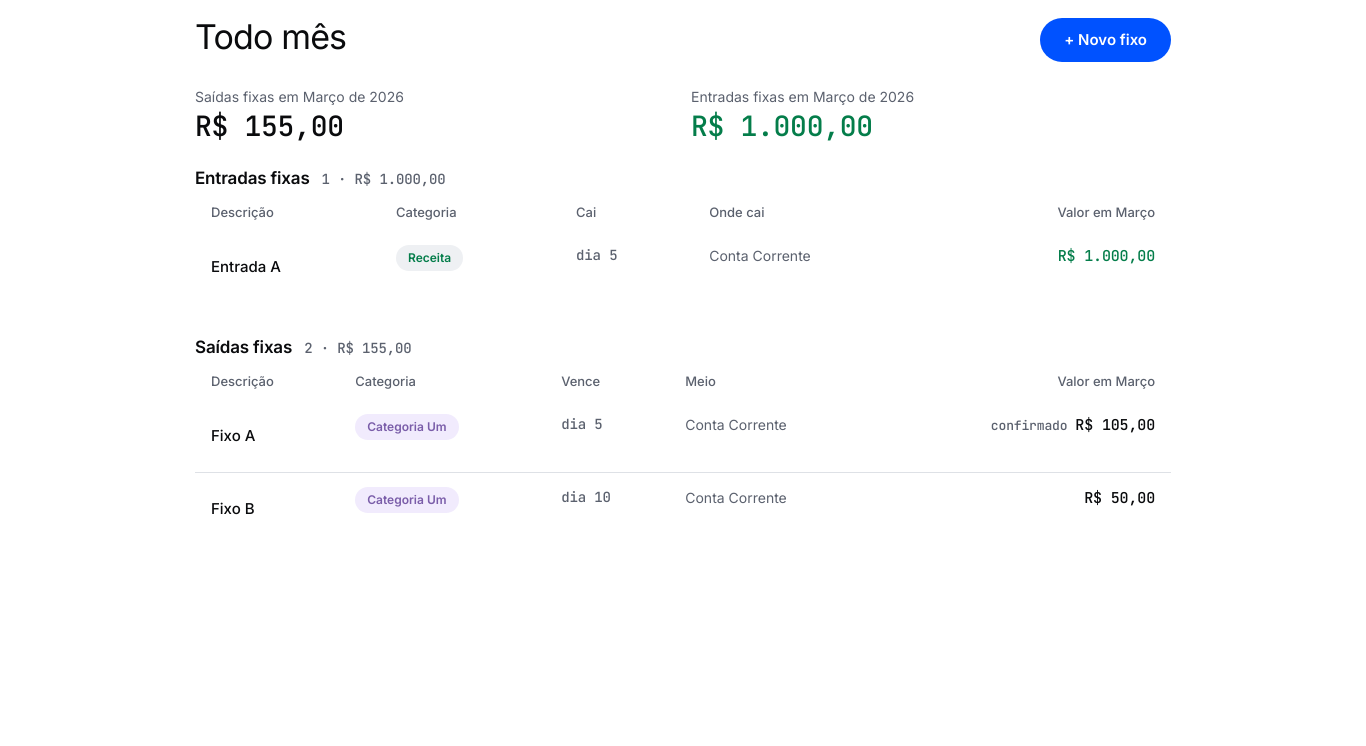
Test case: o cadastro (FIXCOL-06, AC 2; FIXCOL-09, AC 4) › "+ Novo fixo" fecha o fixo aberto, mostra o cadastro e tira `?fixo=`
This screenshot has width=1366, height=746.
Click the button "Fixo B" at [233, 509], box [211,487,255,531]
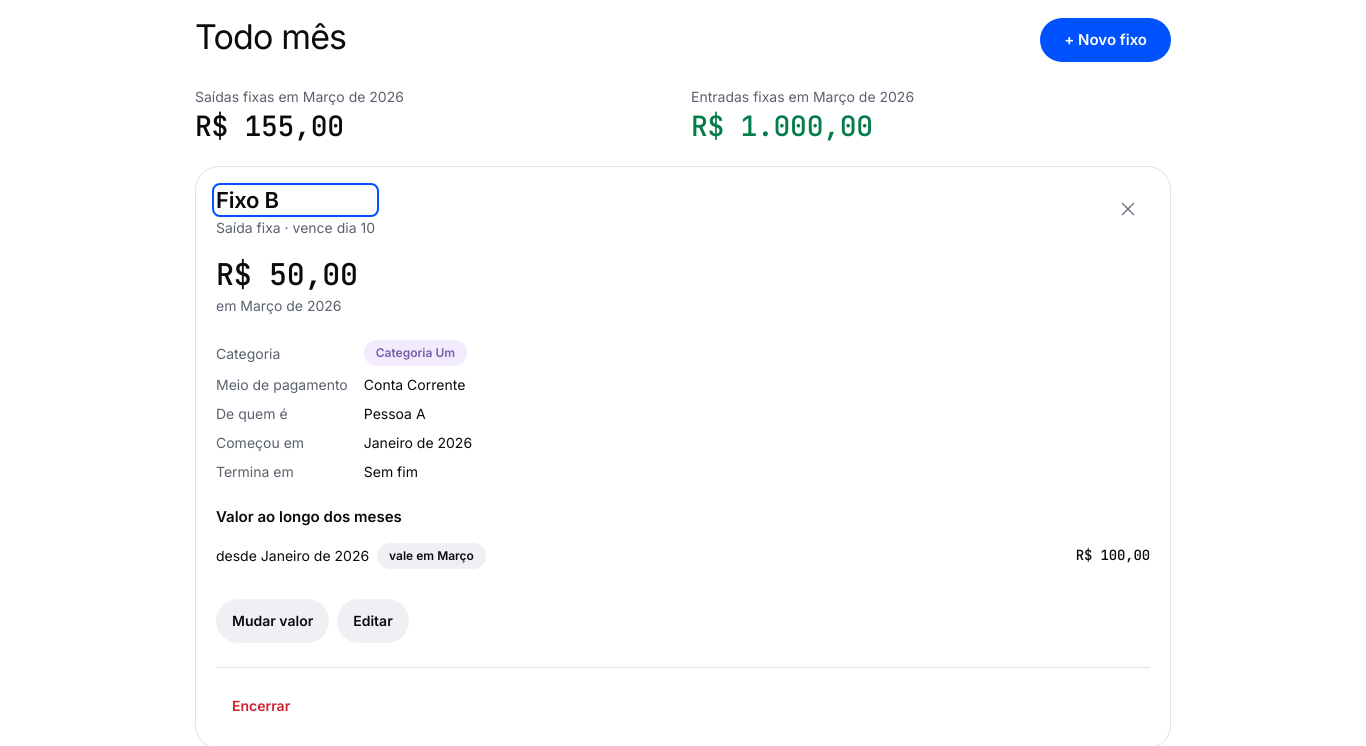
Click the button "+ Novo fixo" at [1106, 40], box [1040,18,1171,62]
(page scrolled)
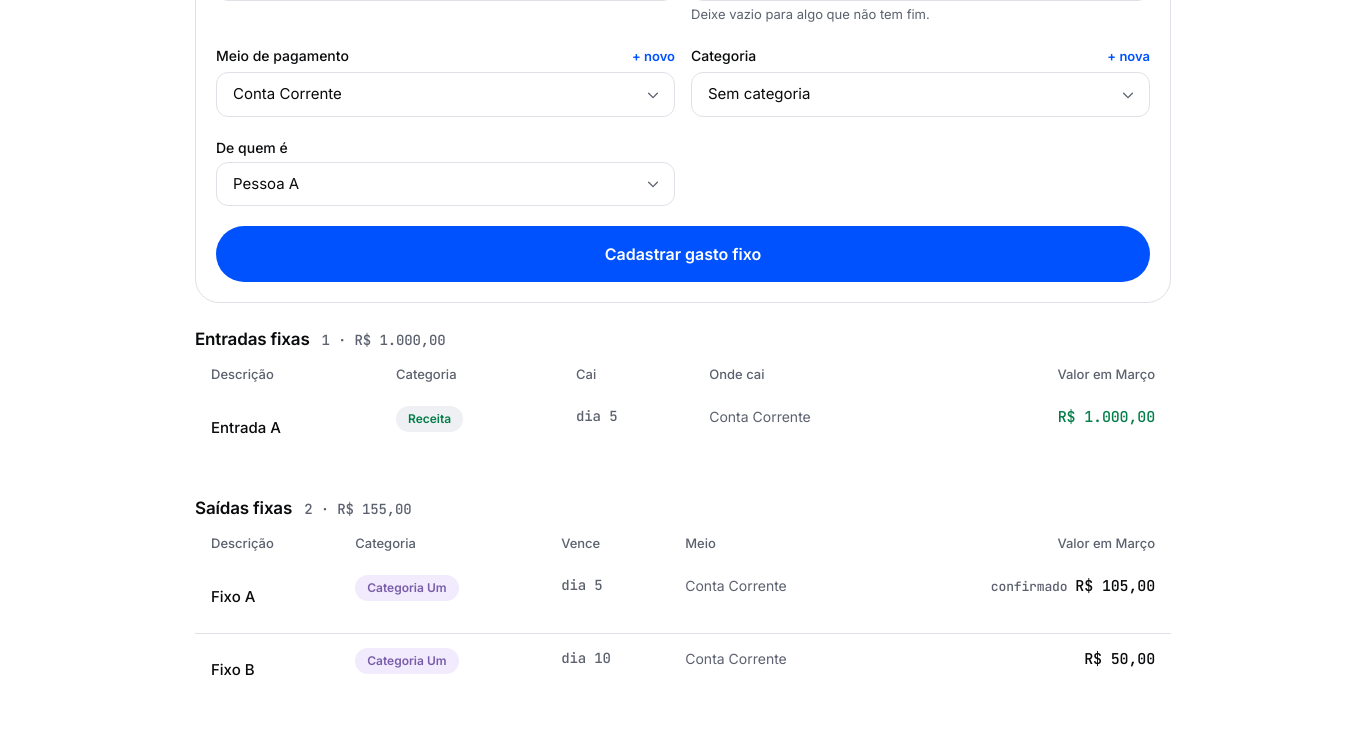
Expected: the button "Fixo B" is collapsed, [211,648,255,692]
